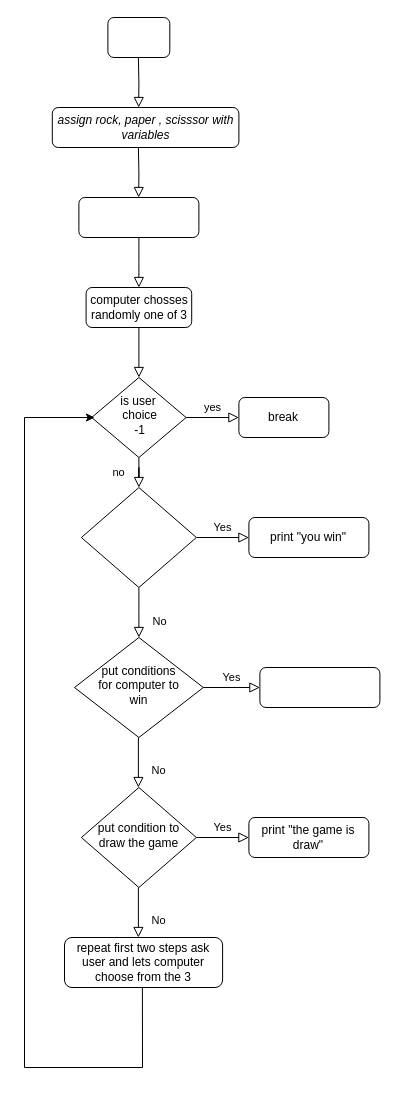
Some shapes in this 398 by 1093 pixel diagram are drawn without their labels. The centre of each missing label's shape, as x and y in pixels:
ask a user to choose rock , paper , scissor: the point at 138,217
print "computer win": the point at 319,687
put conditions for you to win: the point at 138,537
start: the point at 138,37
